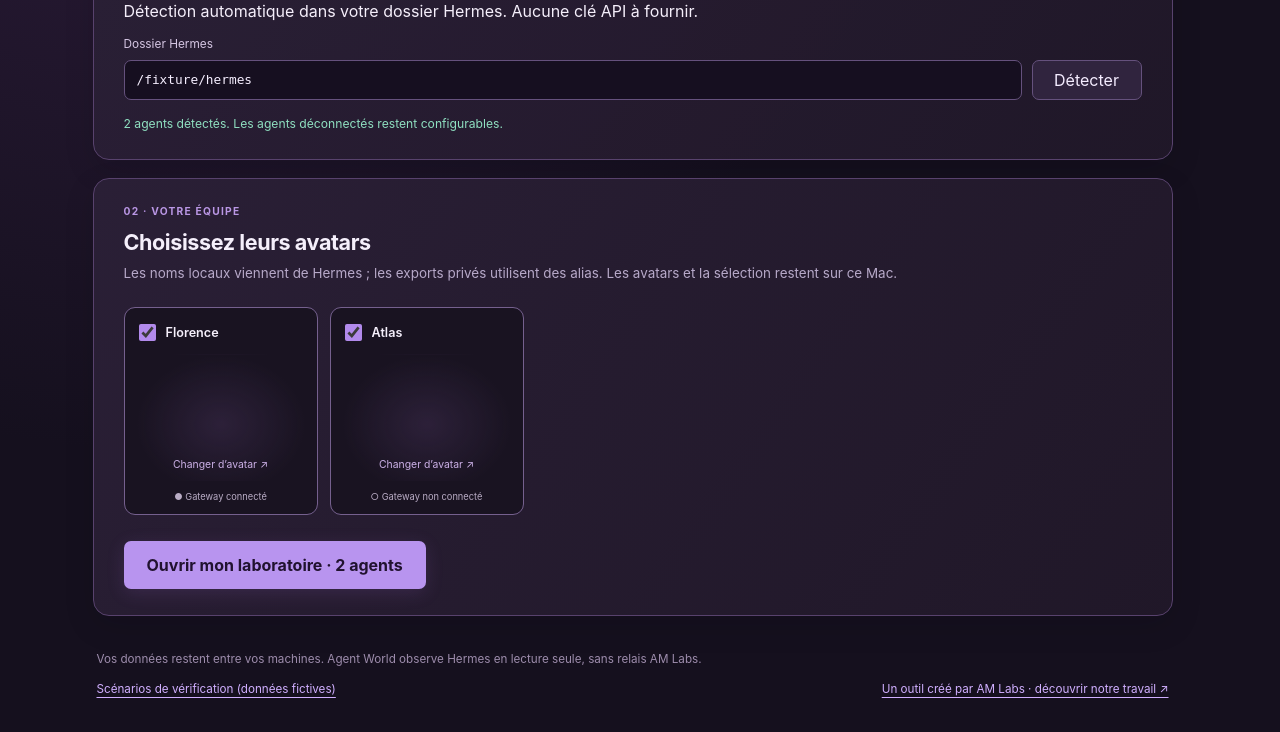
Test: visual Hermes onboarding › requires a selection and a freshly detected folder before launch
(page scrolled)
Check: the button with aria-label "Choisir l’avatar de Florence" is shown, box [134,354,306,482]
Click the checkbox labelled "Florence" at x=147, y=333, box [138,324,156,341]
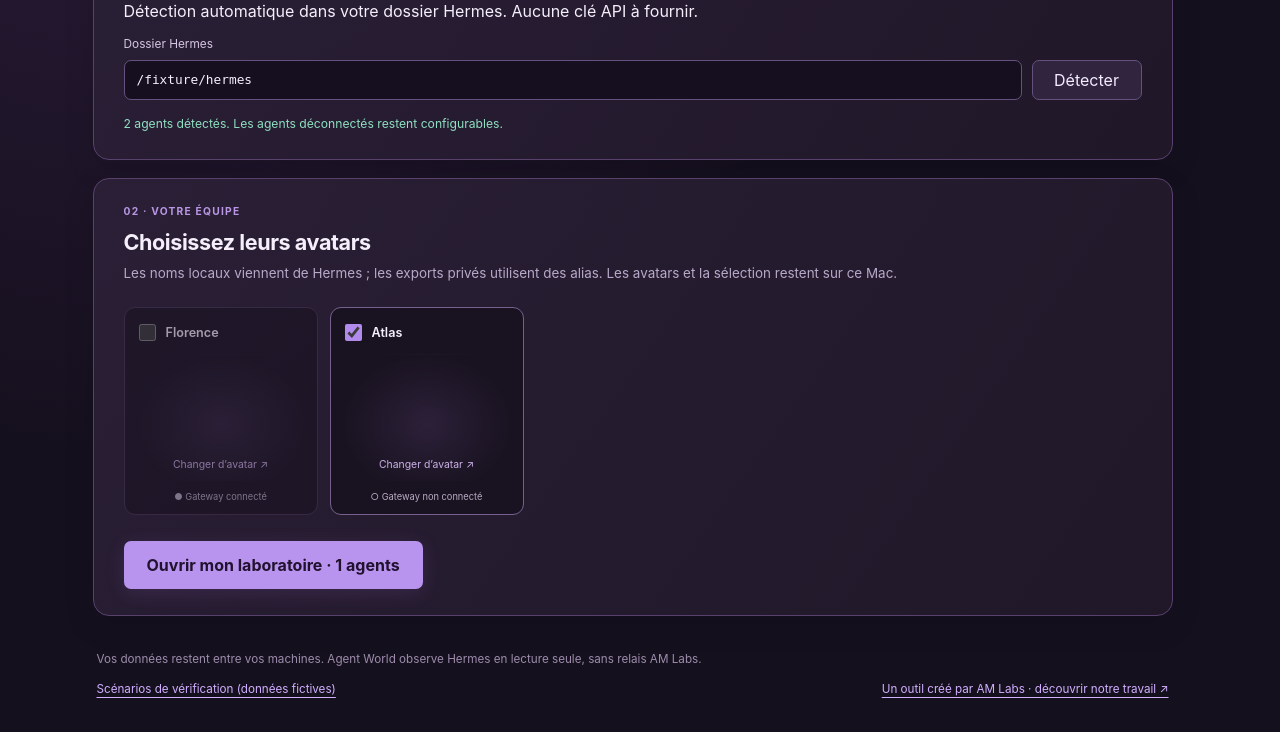
Click the checkbox labelled "Atlas" at x=353, y=333, box [344,324,362,341]
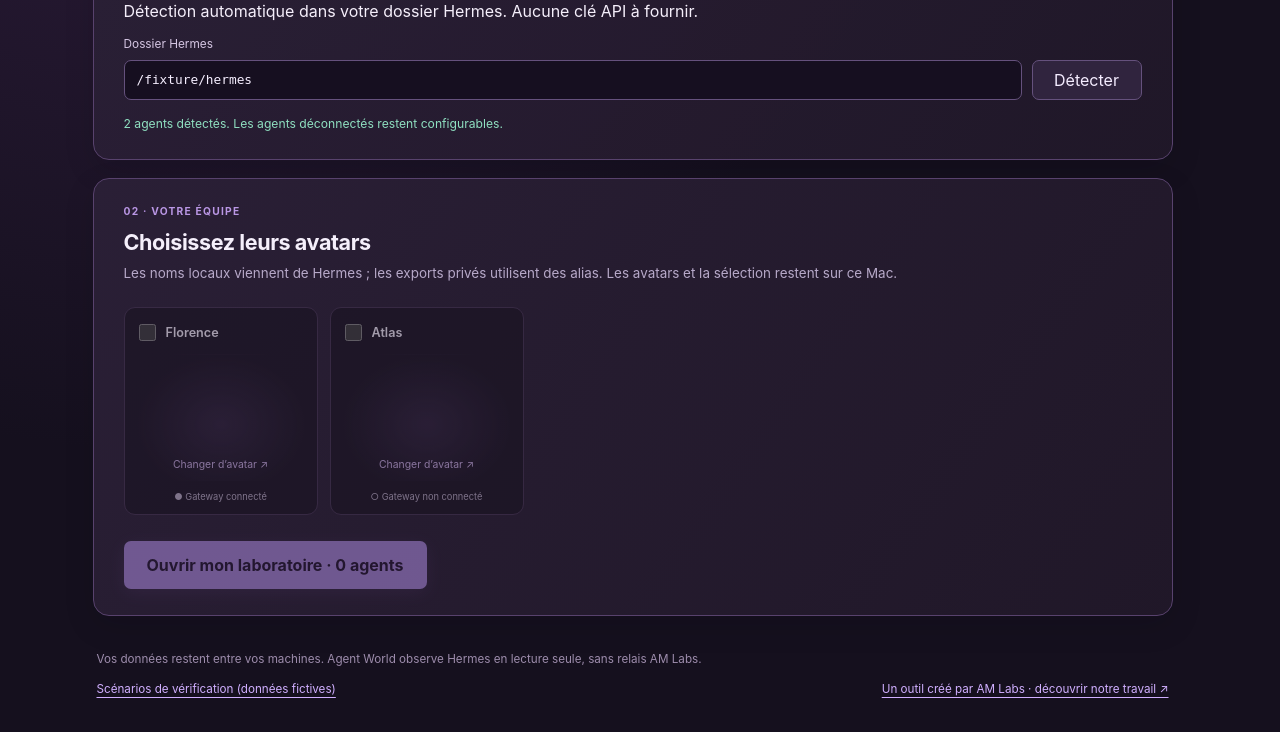
Check: the button "Ouvrir mon laboratoire · 0 agents" is disabled, box [124,541,426,589]
Click the checkbox labelled "Atlas" at x=353, y=333, box [344,324,362,341]
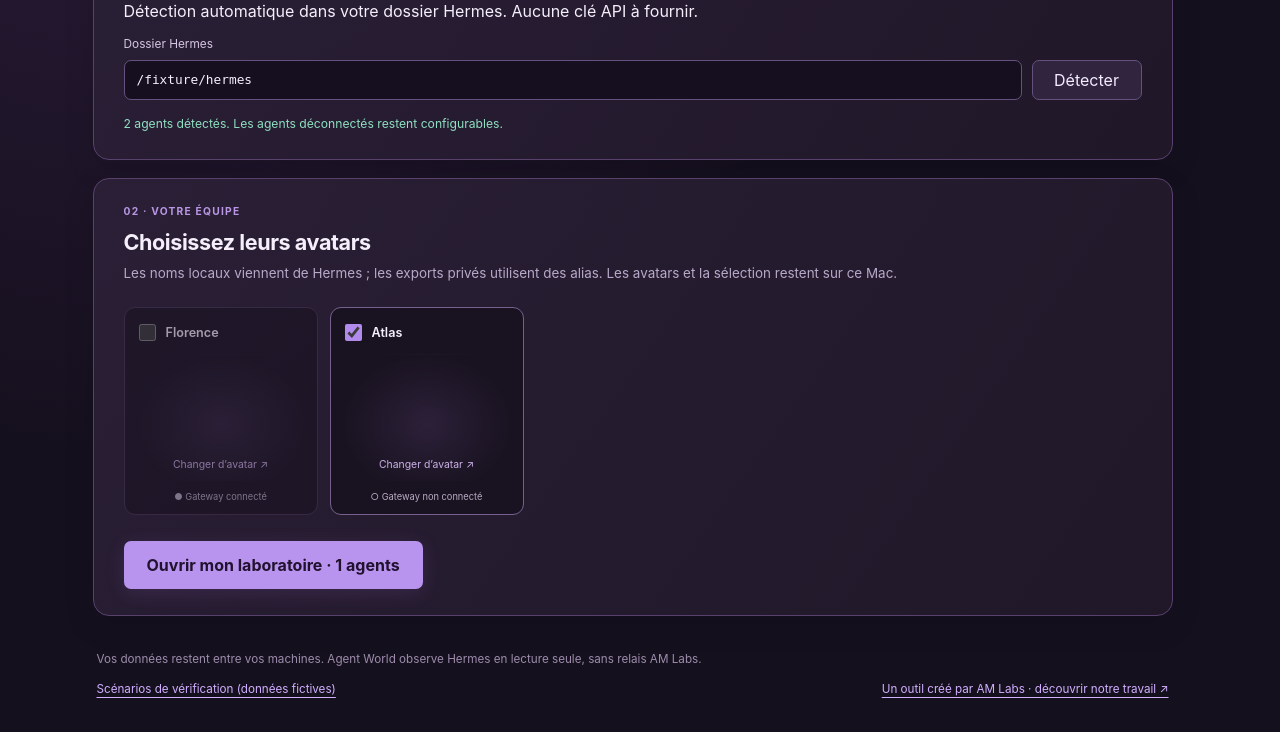
Replace the text in the field labelled "Dossier Hermes" with "/another/hermes" at x=572, y=80, box [124,60,1022,100]
(page scrolled)
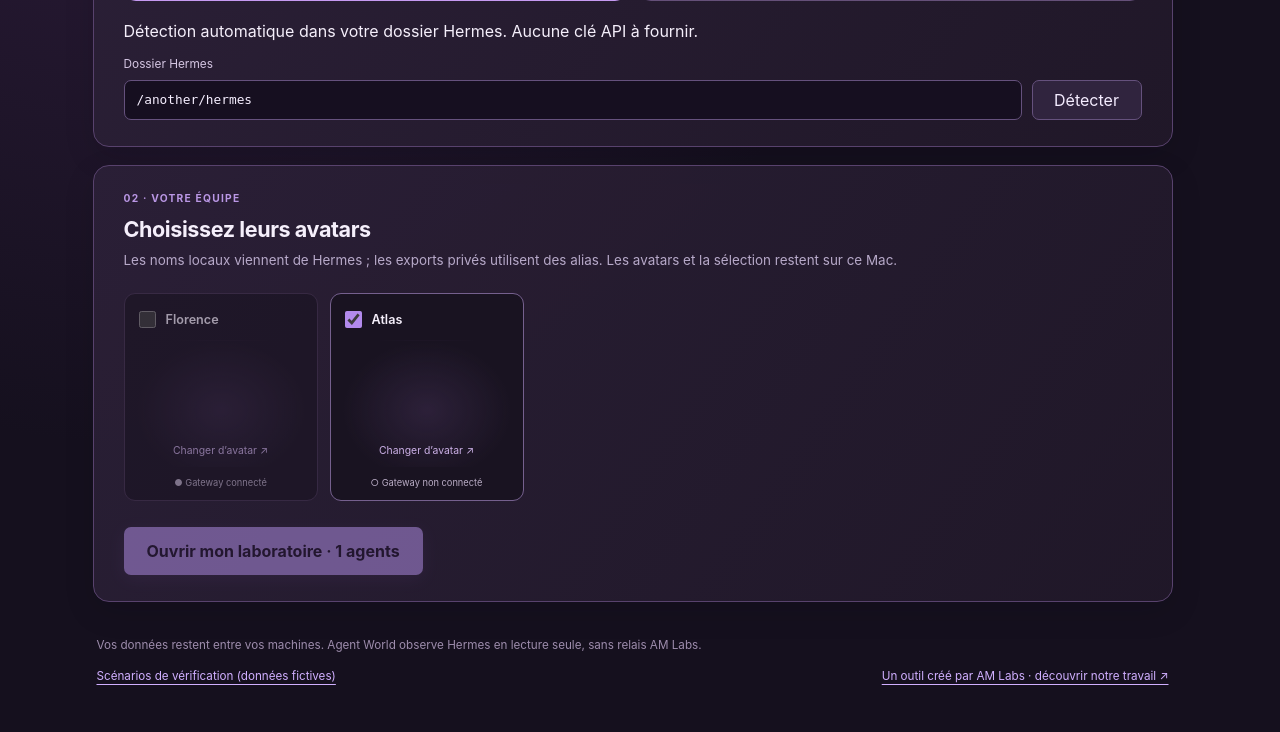
Check: the button "Ouvrir mon laboratoire · 1 agents" is disabled, box [124,527,423,575]
